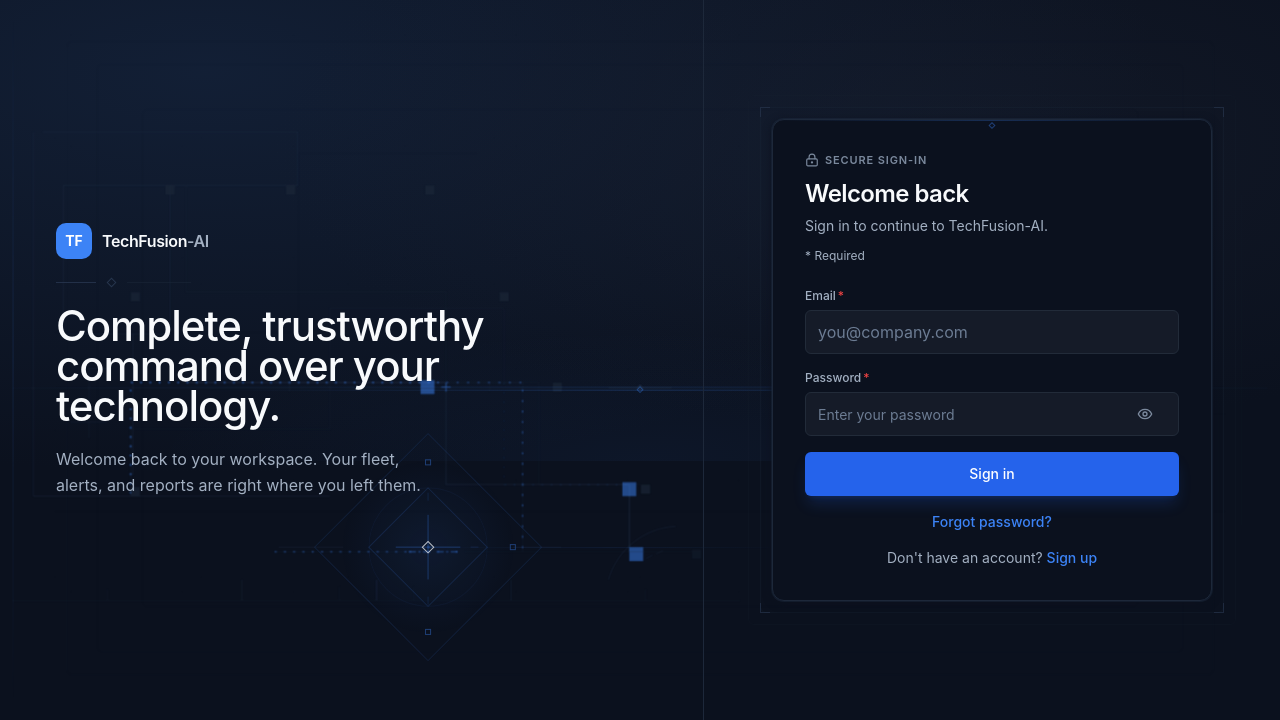
Test: LoginExperience — credential flow › shows the generic invalid-credential error and preserves form state
Type "jane@acme.com" into the field labelled "Email*" at {"x": 992, "y": 332}, box [805,310,1179,354]
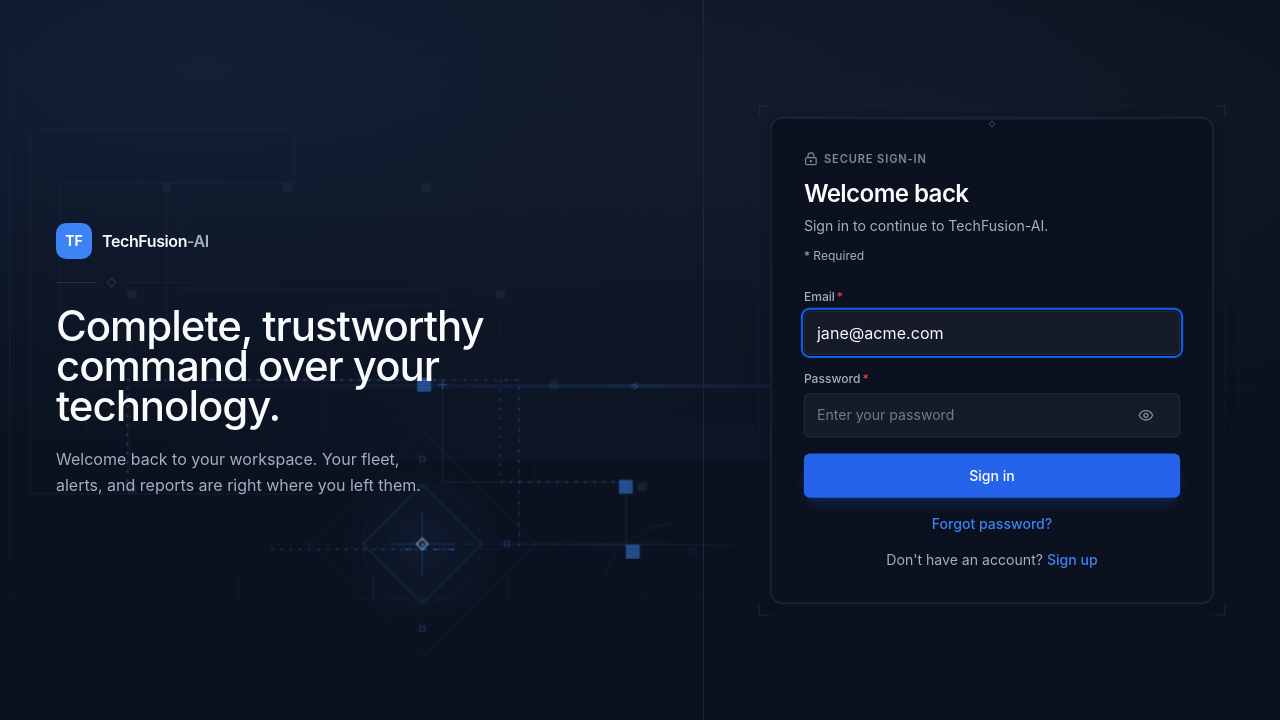
Type "secret" into the password field labelled "Password*" at {"x": 992, "y": 415}, box [804,392,1180,437]
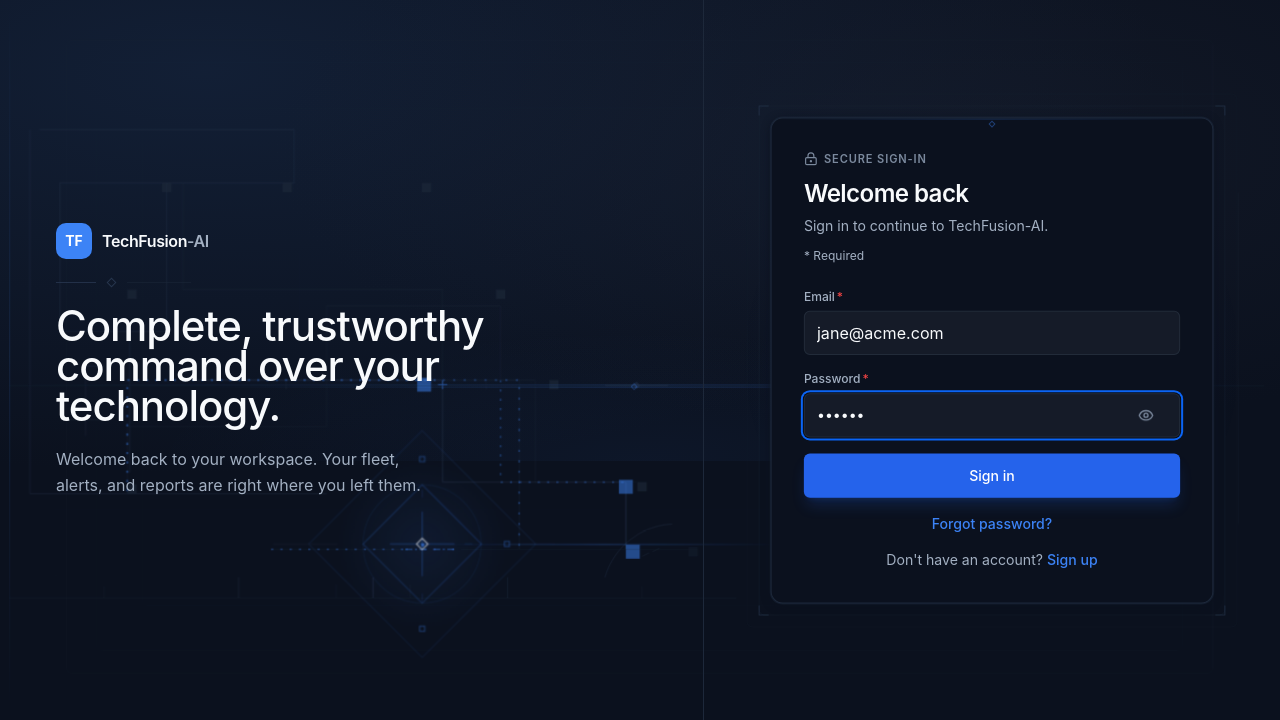
Click the button "Sign in" at {"x": 992, "y": 475}, box [804,453,1180,497]
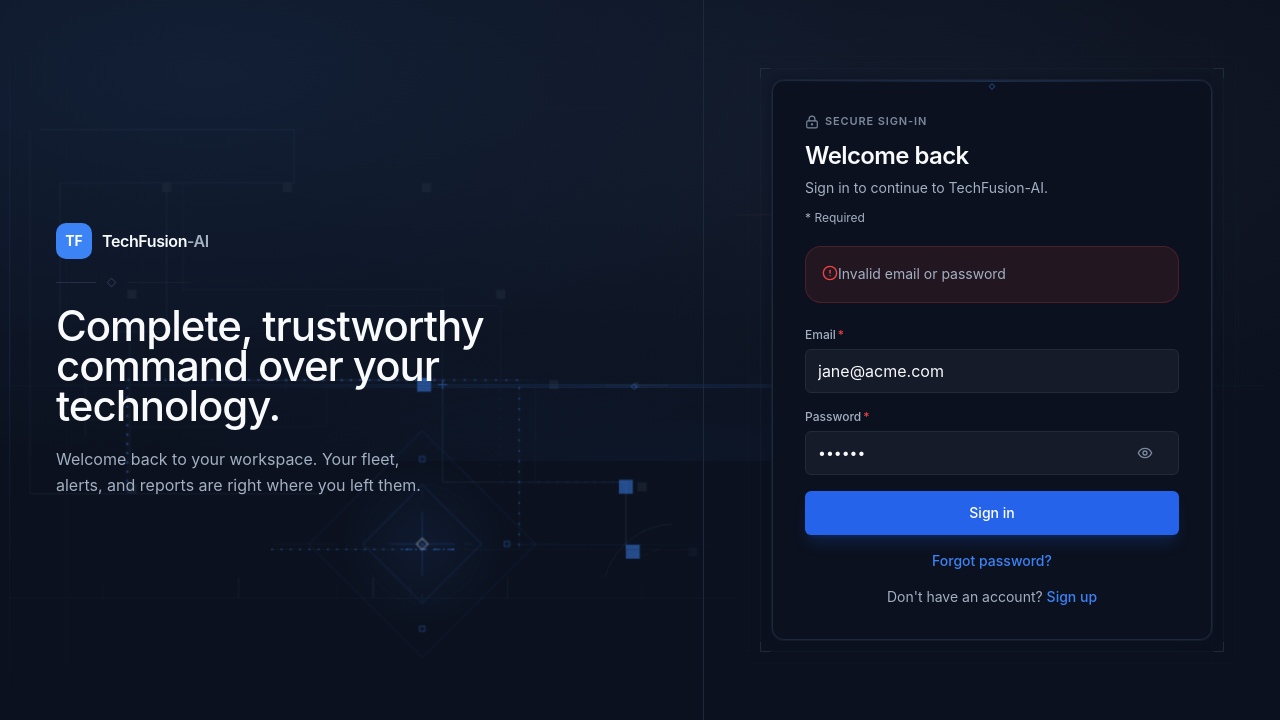
Result: the message reads "Invalid email or password" at [838,265,1006,282]
